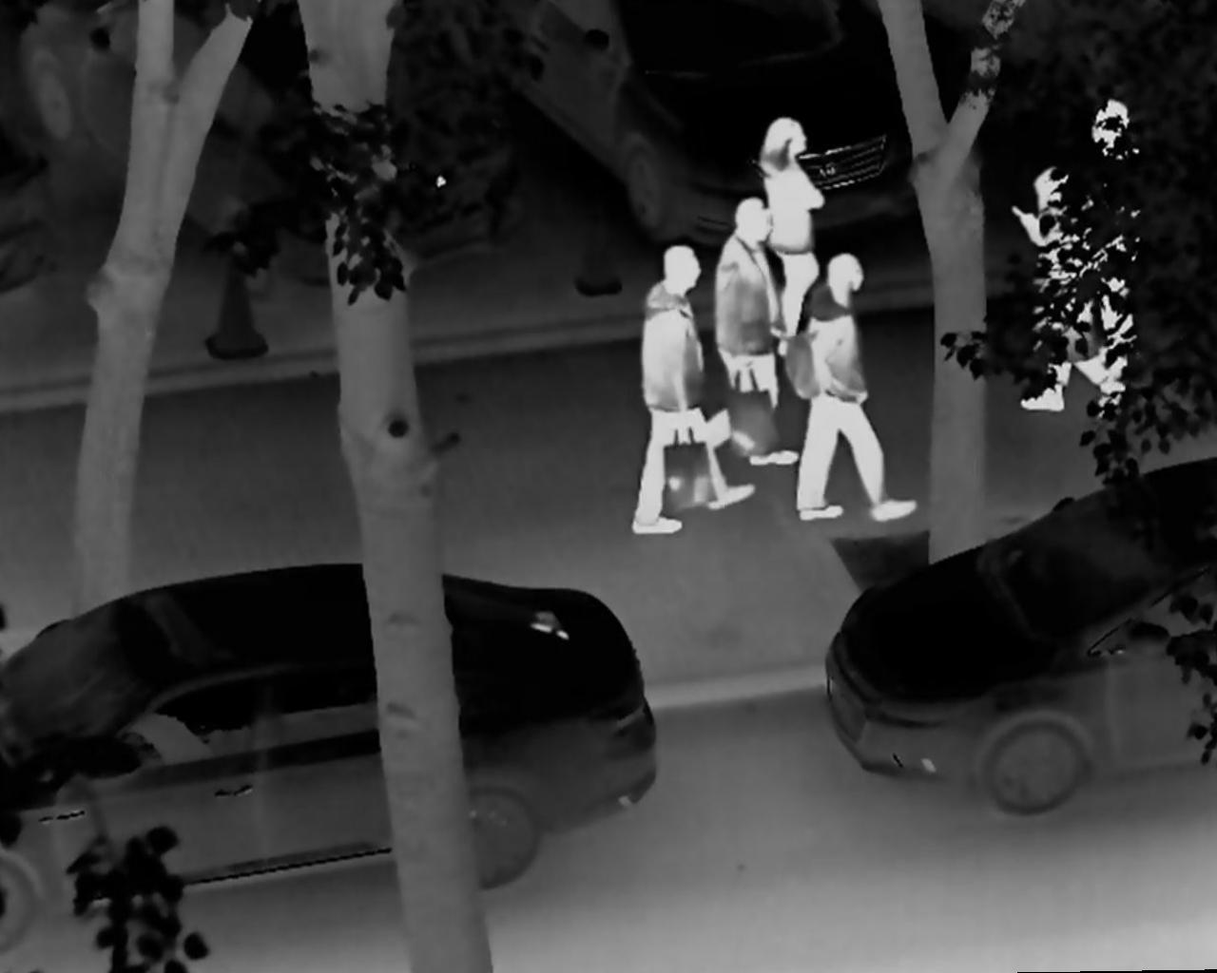person: (621, 240, 756, 537), (788, 249, 918, 527), (1002, 166, 1132, 410), (1073, 90, 1157, 394), (709, 198, 796, 466), (742, 110, 826, 355)
